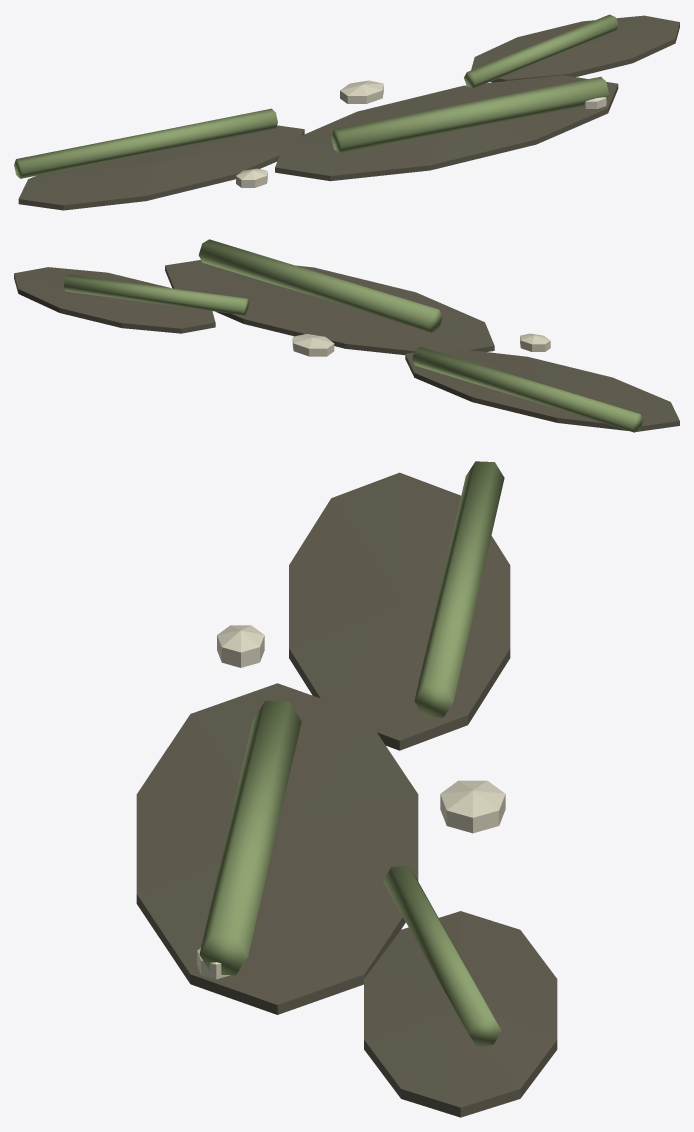
File: river_debris_a.obj
3 renders of one model, top to bottom at view 1: azimuth 30°, elevation 25°; view 2: azimuth 150°, elevation 25°; view 3: azimuth 270°, elevation 25°, orthographic. The views are drawn at different scales.
Visible parts, largest first — view 1: river_debris_a; view 2: river_debris_a; view 3: river_debris_a.
Part boxes in pixels (box(x1,y1,x2,y2)): river_debris_a: box(14, 14, 679, 210); river_debris_a: box(14, 239, 679, 432); river_debris_a: box(136, 461, 557, 1117).
Bounding box in the file's own units: 6.15 × 0.2566 × 1.72.
